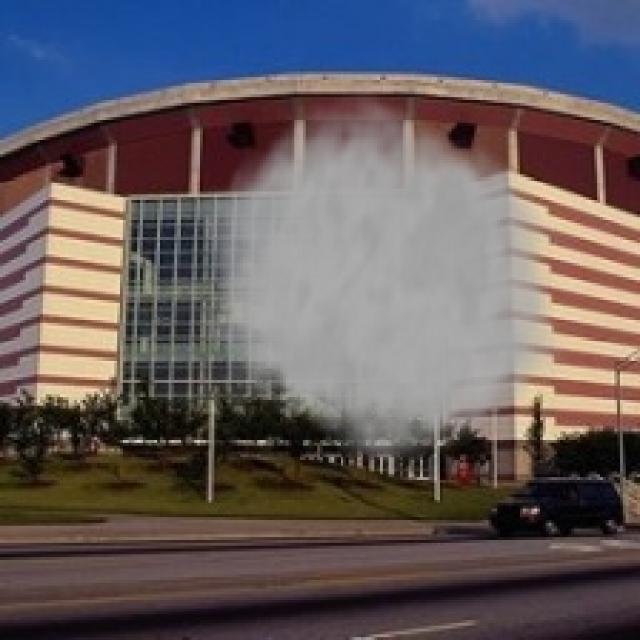smoke: (197, 83, 574, 474)
